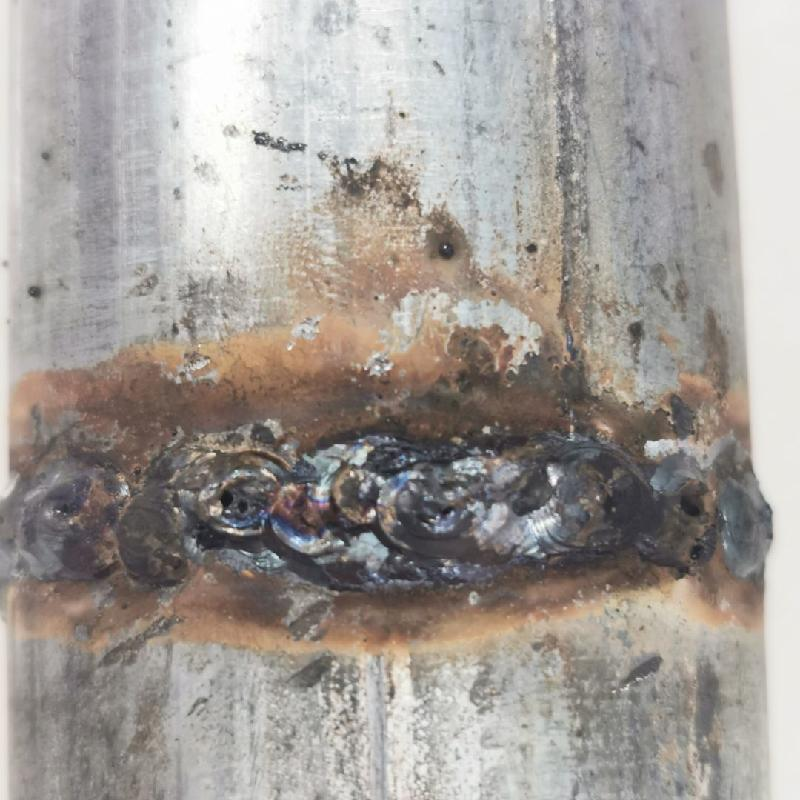Surface_pores: (658, 472, 727, 570), (214, 480, 264, 525)
crater: (202, 444, 490, 573)
wrong_size: (488, 428, 775, 581), (0, 437, 200, 605)
